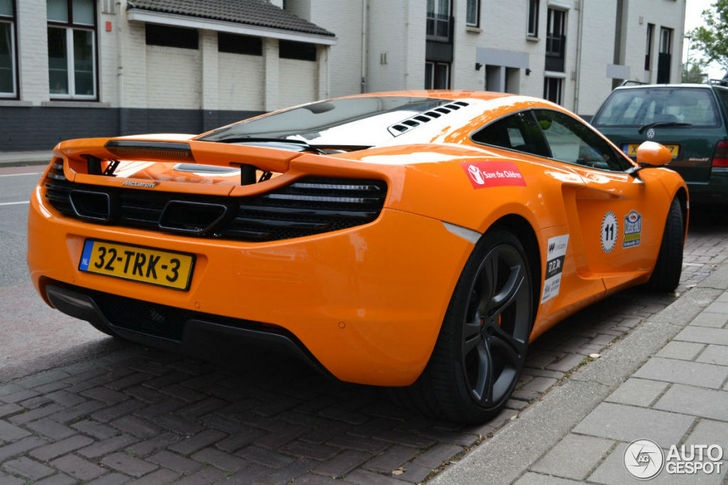number_plate: (77, 231, 200, 290)
